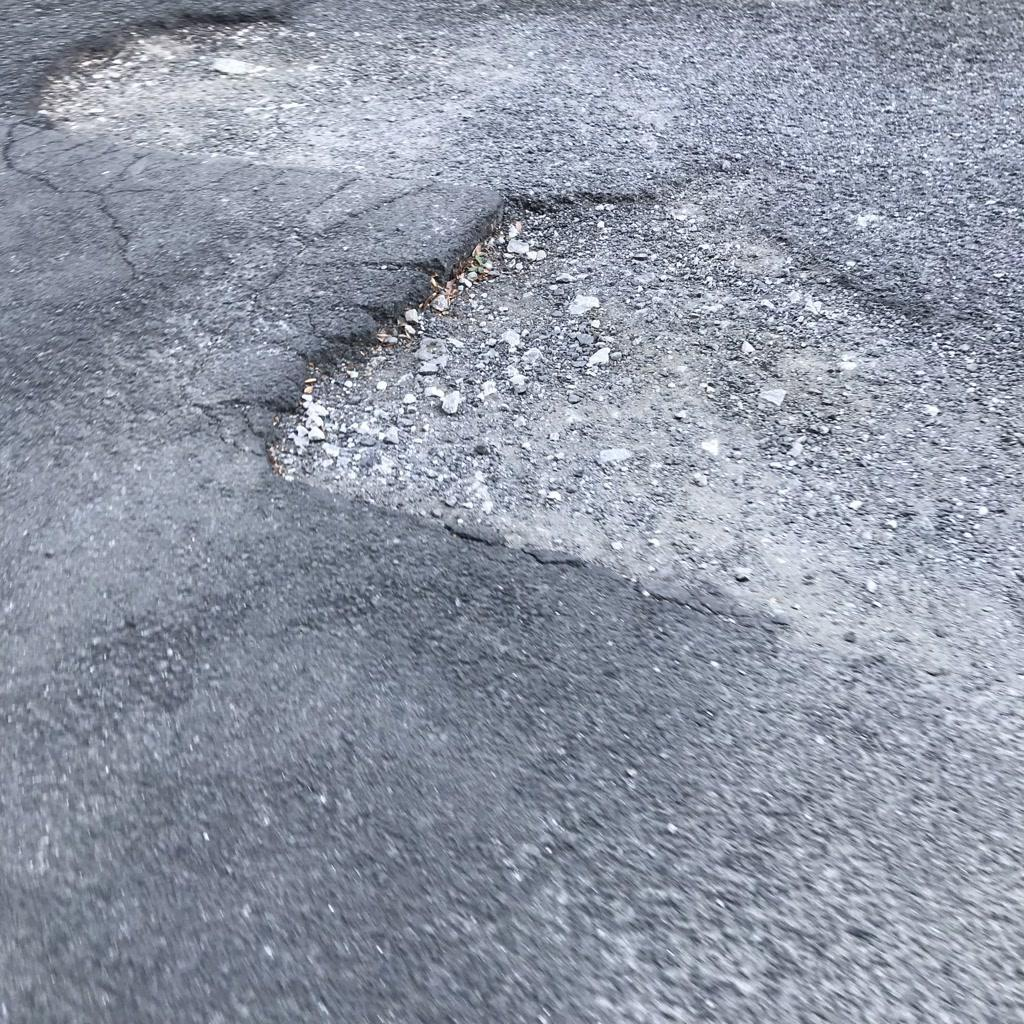pothole: (280, 192, 1024, 692), (7, 0, 799, 189)
